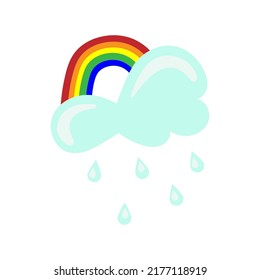cloud: (48, 45, 212, 152)
rainbow: (57, 34, 153, 101)
